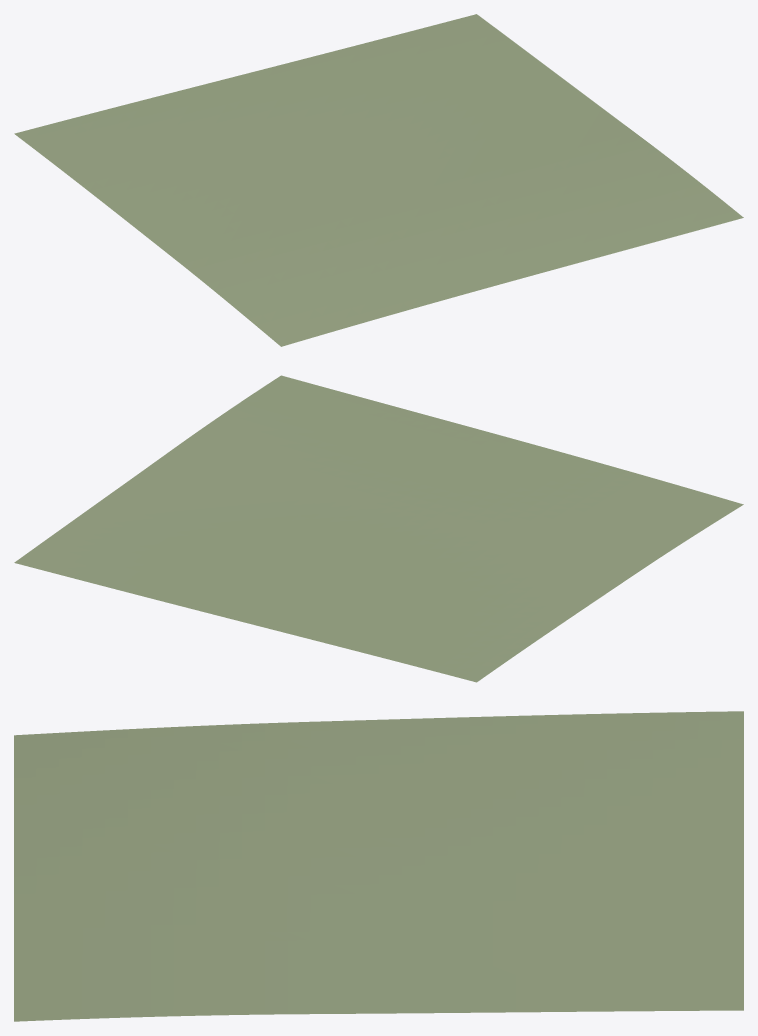
File: desert-26-8.glb
The picture shows the model from 3 angles, top to bottom: view 1: azimuth 30°, elevation 25°; view 2: azimuth 150°, elevation 25°; view 3: azimuth 270°, elevation 25°; orthographic projection. The views are drawn at different scales.
Visible parts, largest first — view 1: desert-26-8; view 2: desert-26-8; view 3: desert-26-8.
Part boxes in pixels (left/top/right/bottom): desert-26-8: left=14, top=14, right=743, bottom=346; desert-26-8: left=14, top=375, right=743, bottom=682; desert-26-8: left=14, top=711, right=743, bottom=1021.
Bounding box in the file's own units: 512 × 25.74 × 512.
